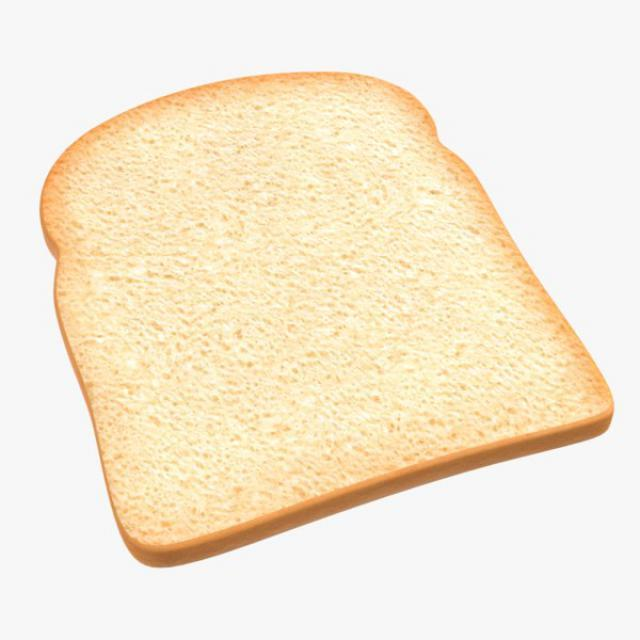Bread: (37, 70, 609, 564)
